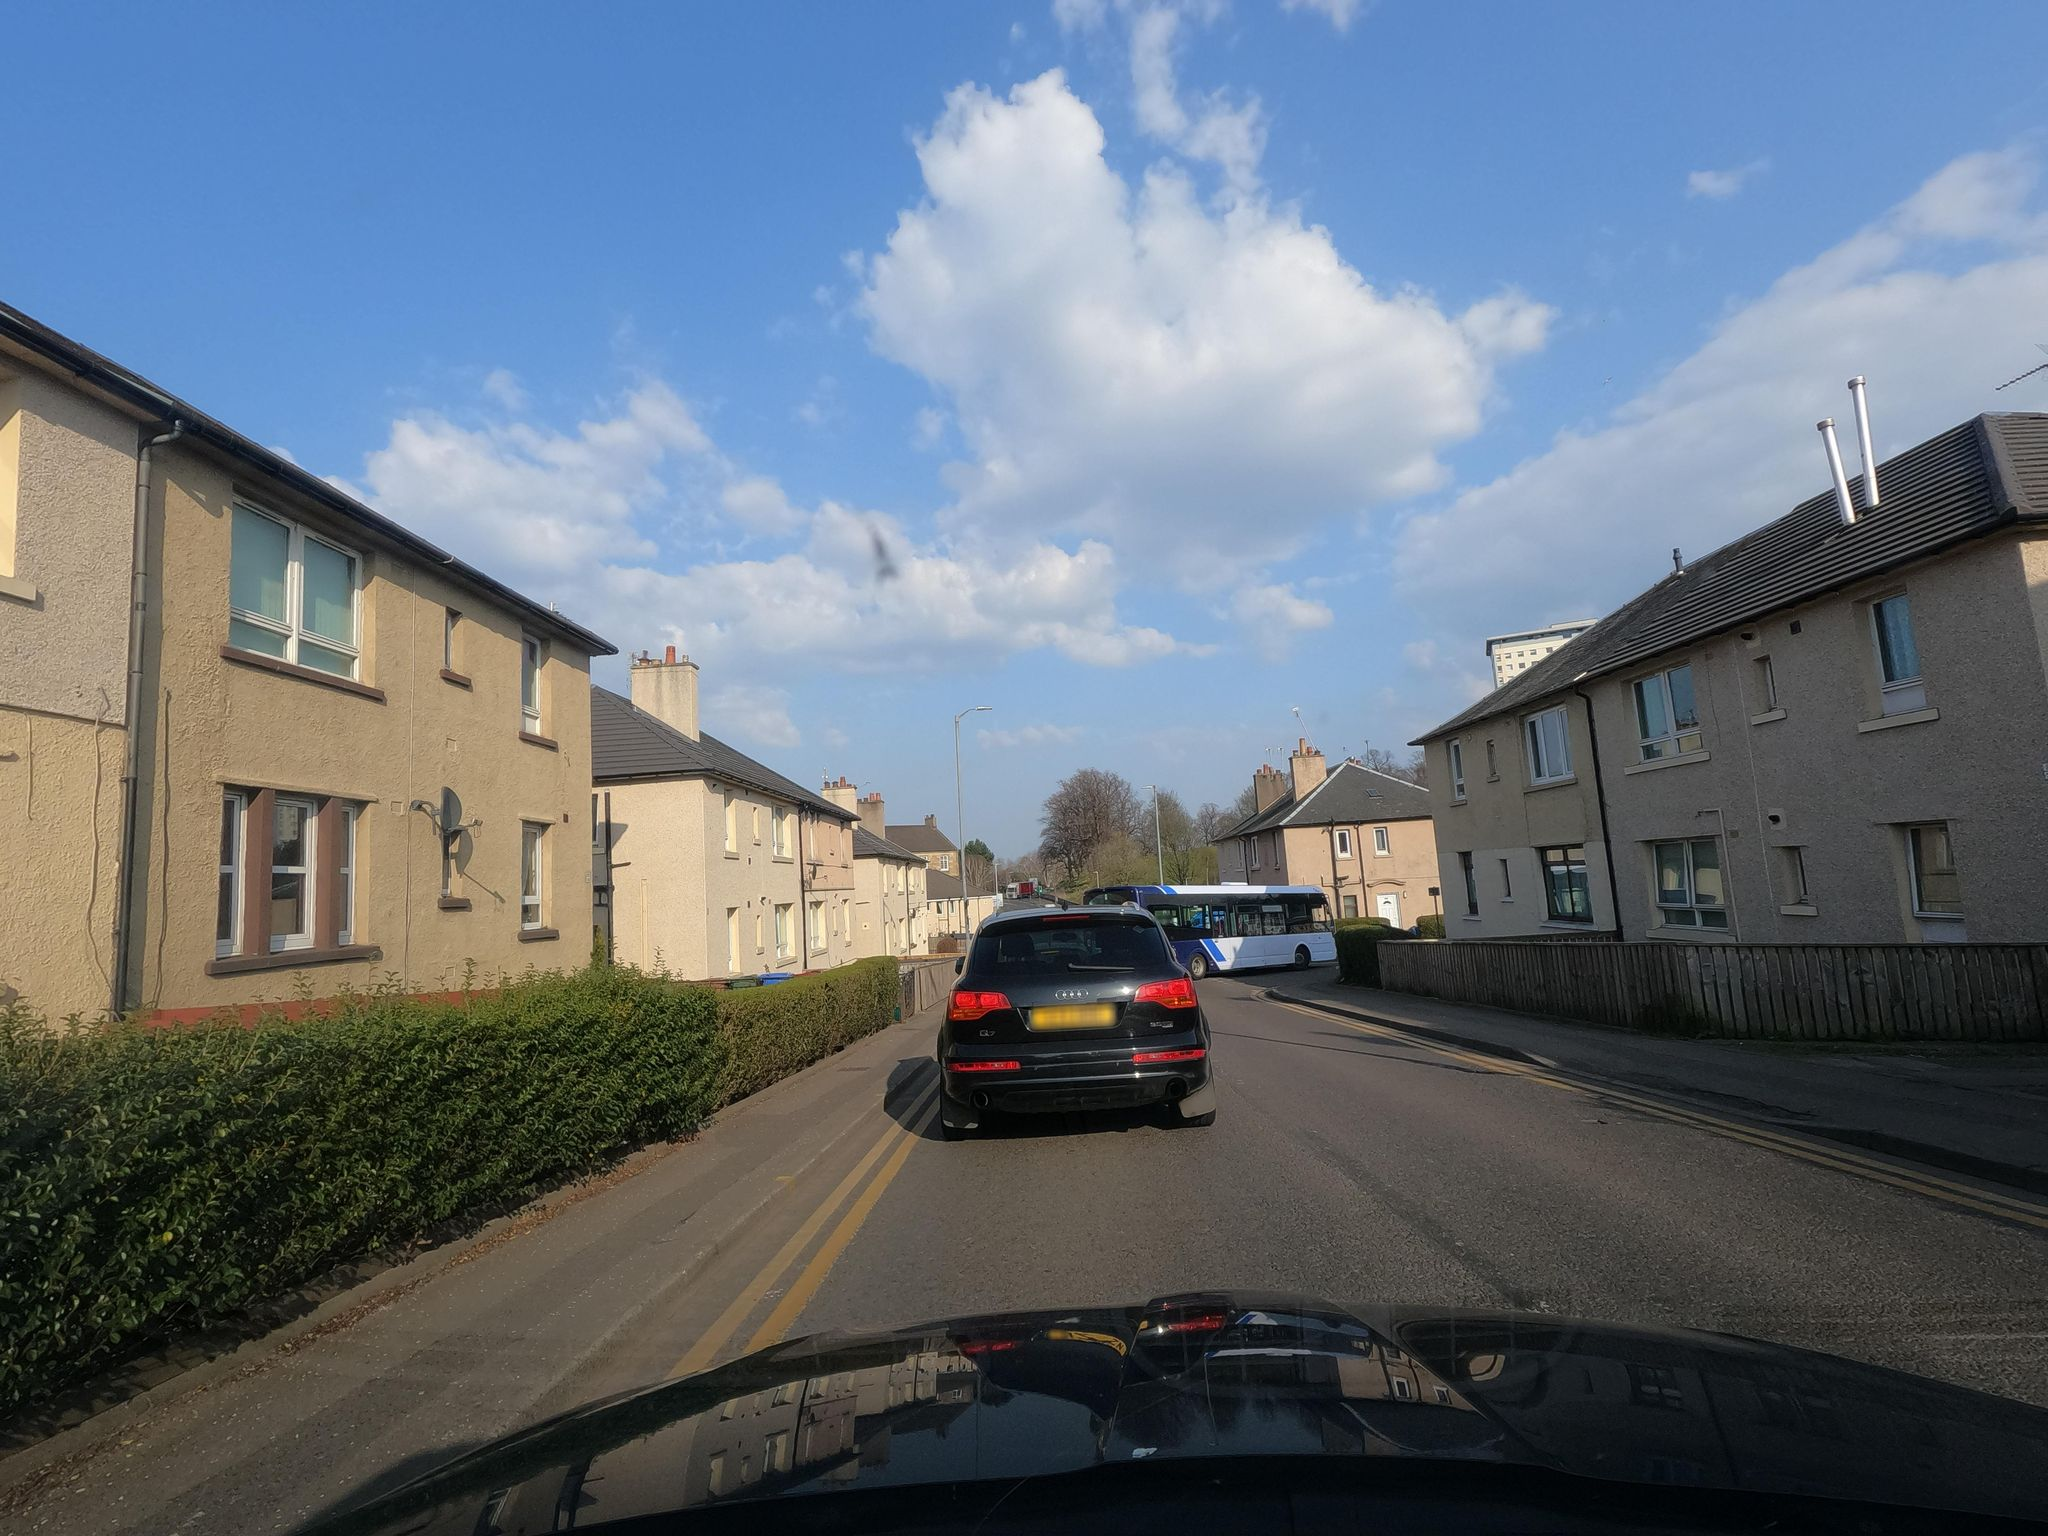bus: (1084, 881, 1338, 979)
car: (937, 902, 1221, 1141)
